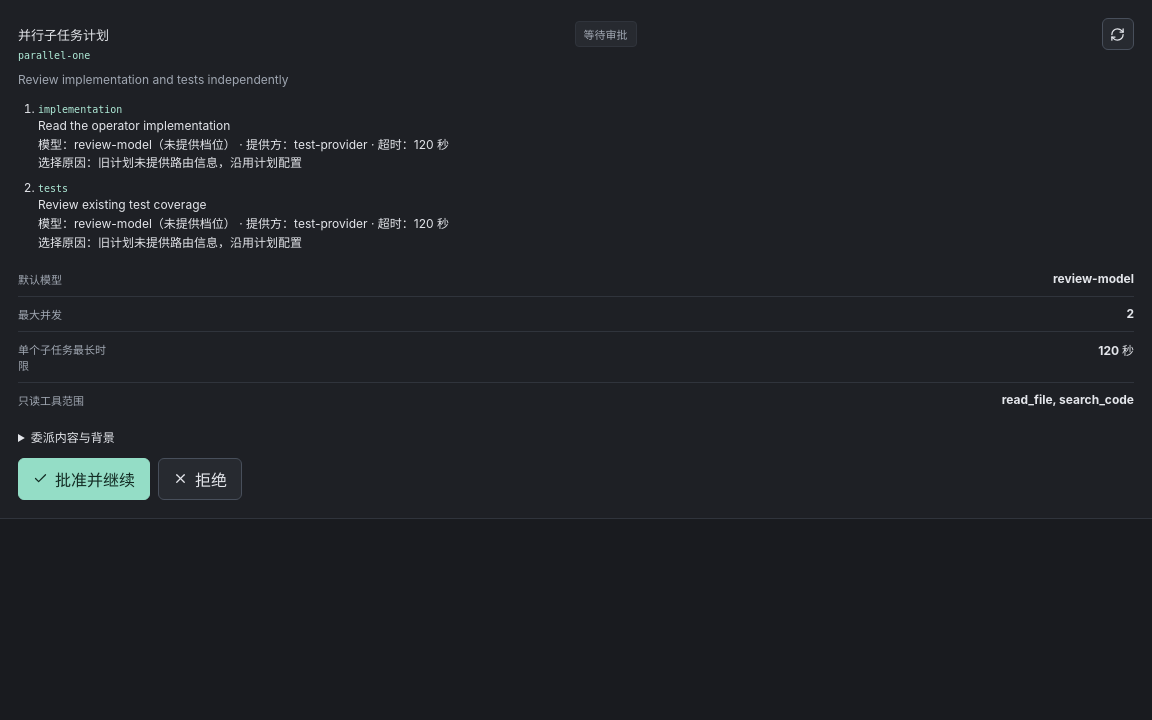
Test: ParallelPlanCard › rejects without continuing or cancelling
Click the button "拒绝".
click(200, 479)  # box [158,458,242,500]
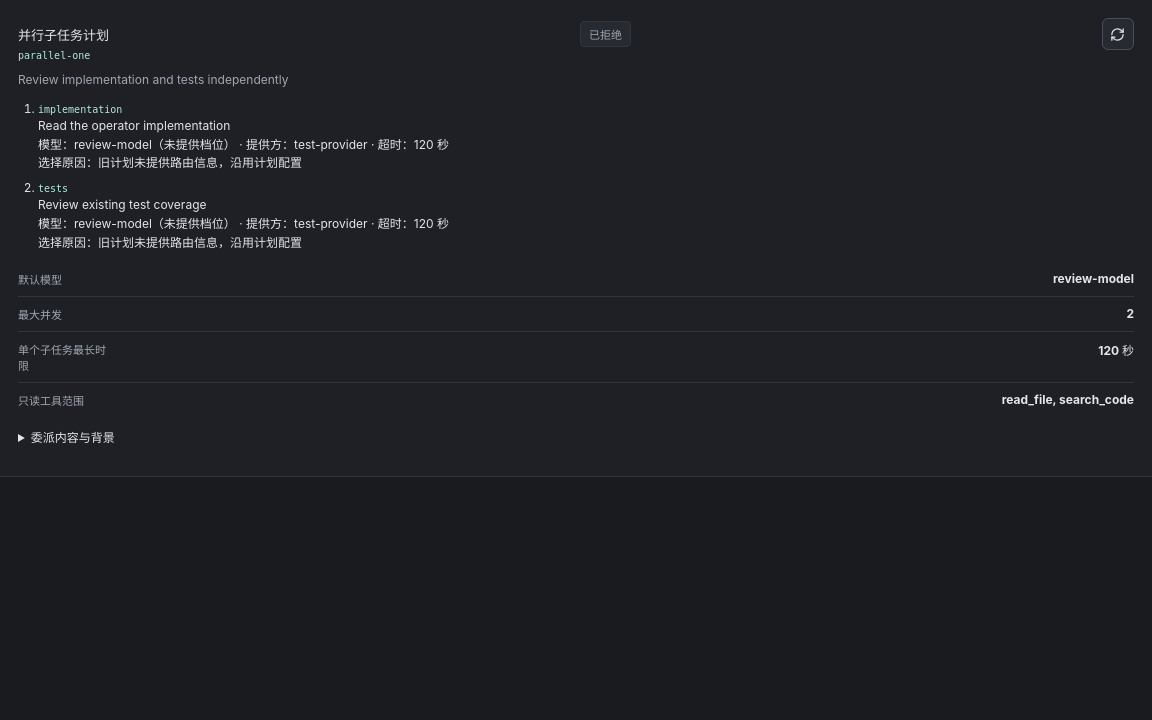
Expected: the text "已拒绝" is shown, [580,21,631,47]
Expected: the button "批准并继续" is gone
